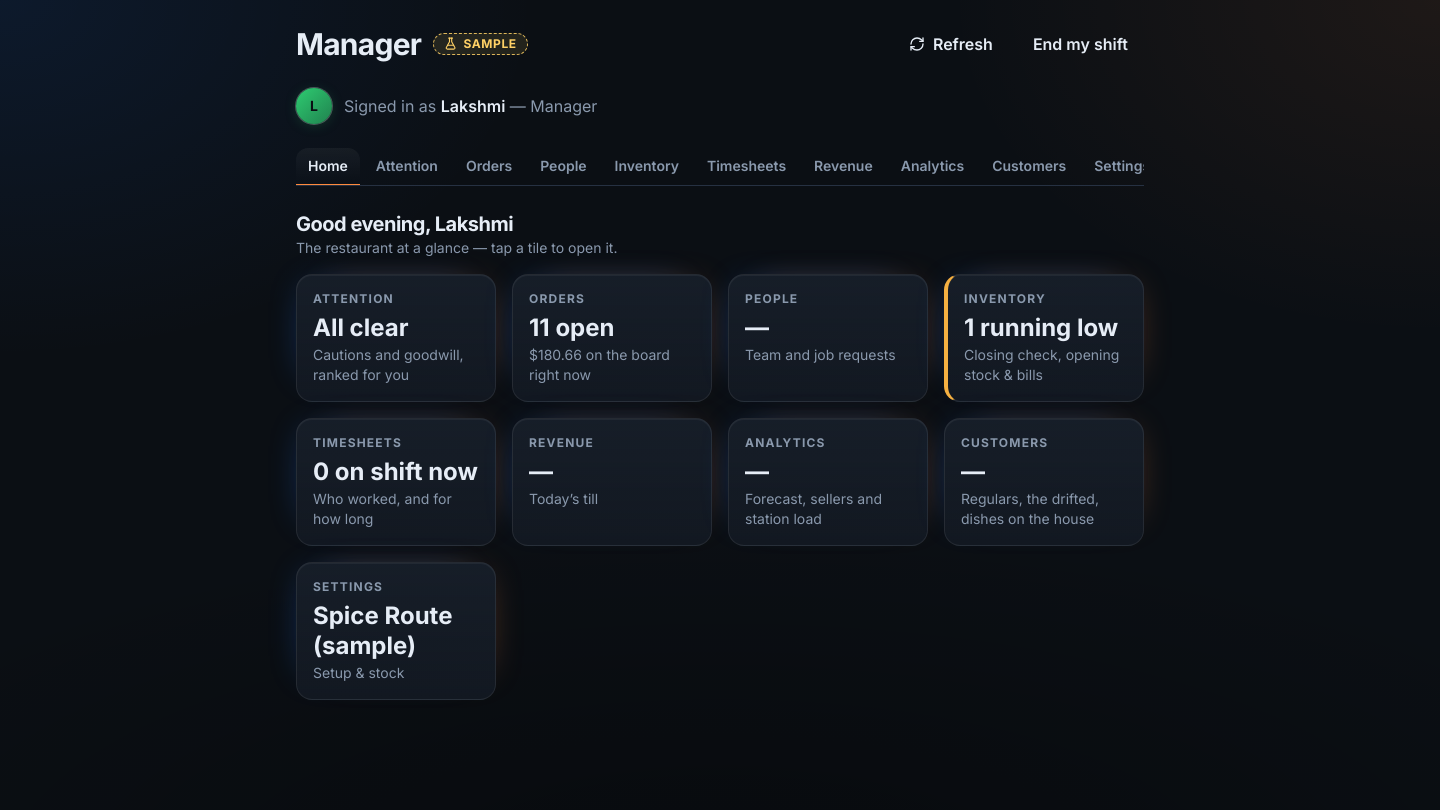
Test: job_requests_are_decided_from_the_attention_view
Click the tab "People" at (563, 167), box [528,148,599,186]
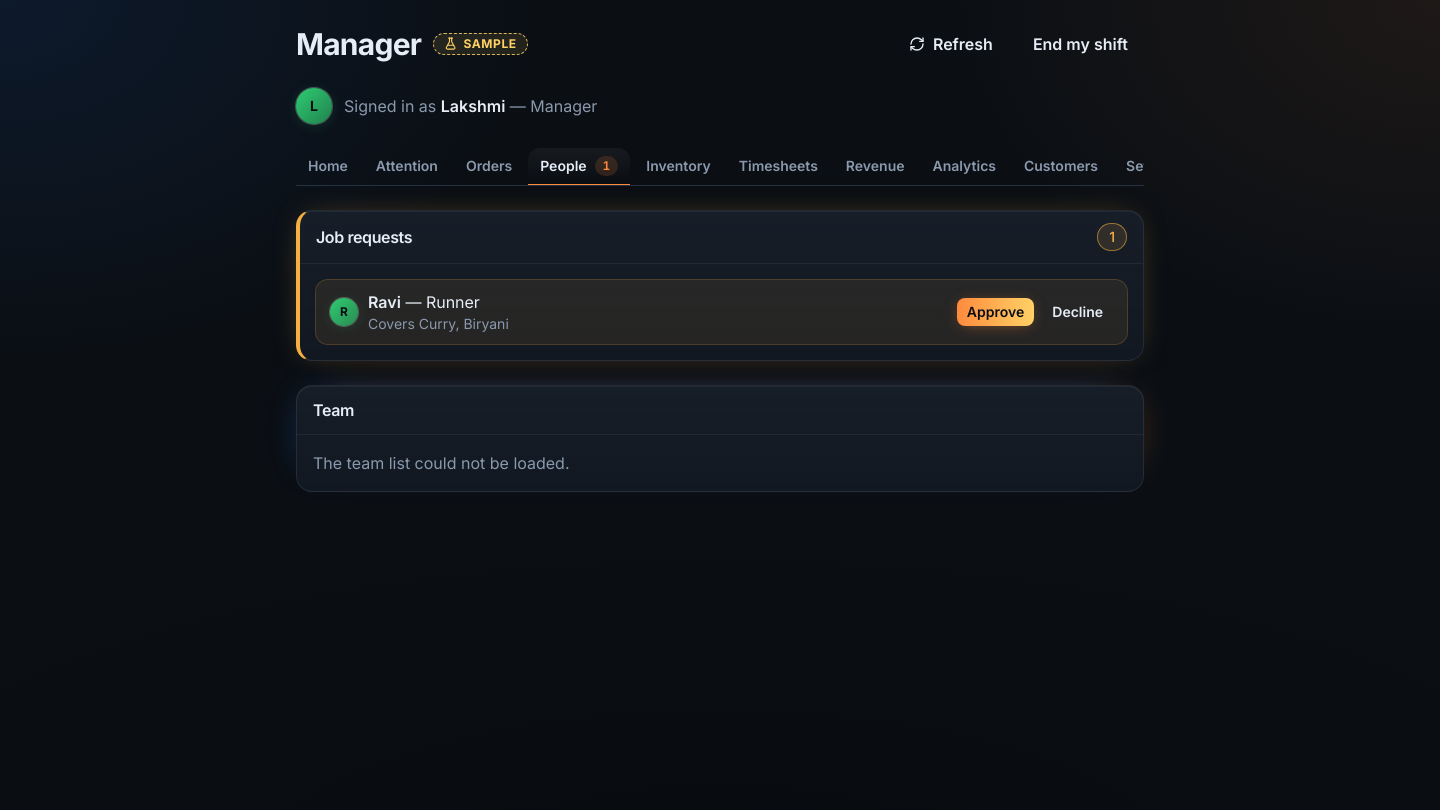
expect the heading "Job requests" is shown: met, box [316,225,412,249]
expect the text "Ravi — Runner Covers Curry, Biryani" is shown: met, box [368,290,509,334]
expect the text "Covers Curry, Biryani" is shown: met, box [368,314,509,334]
Click the button "Approve" at (996, 312), box [957,298,1034,326]
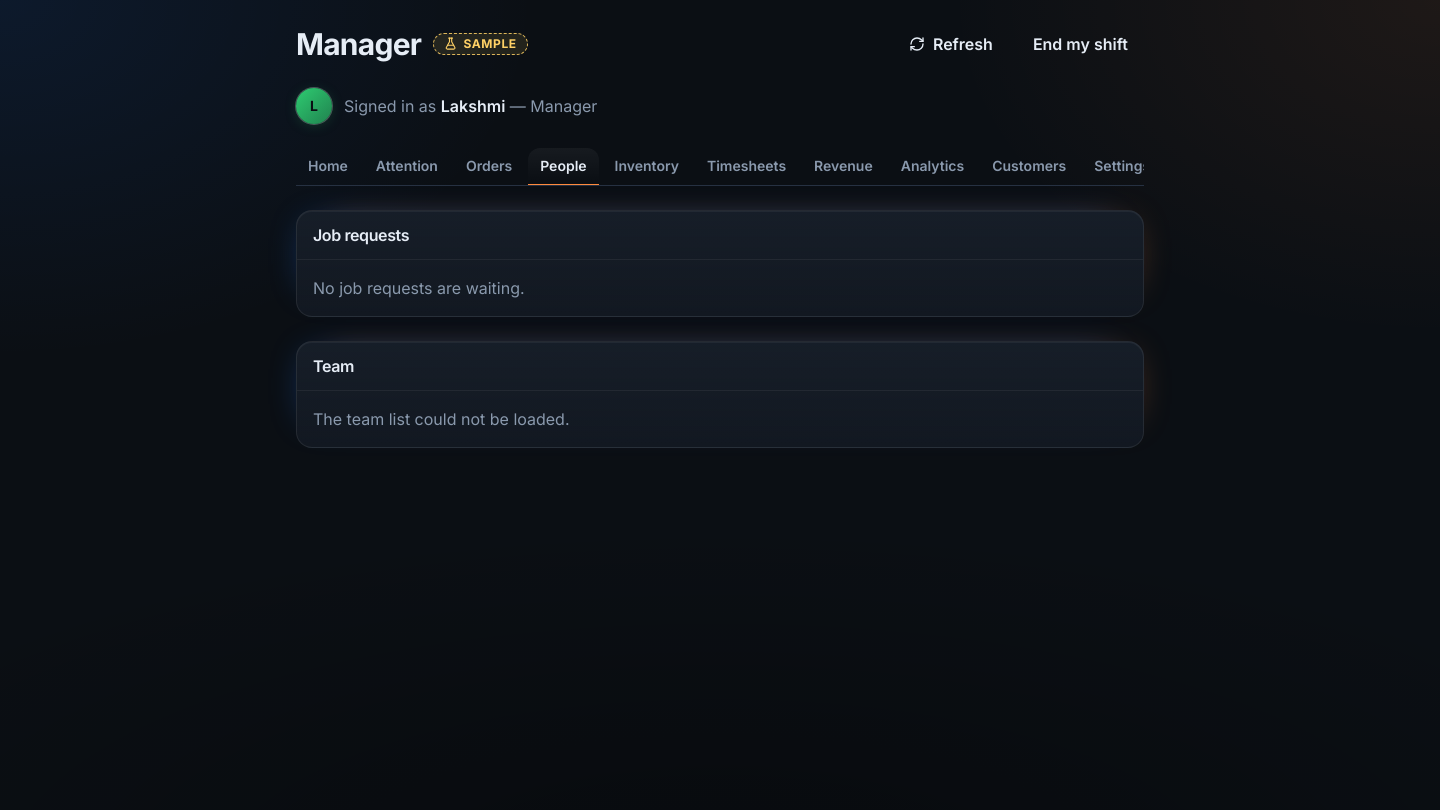
expect the text "No job requests are waiting." is shown: met, box [313,278,525,298]
